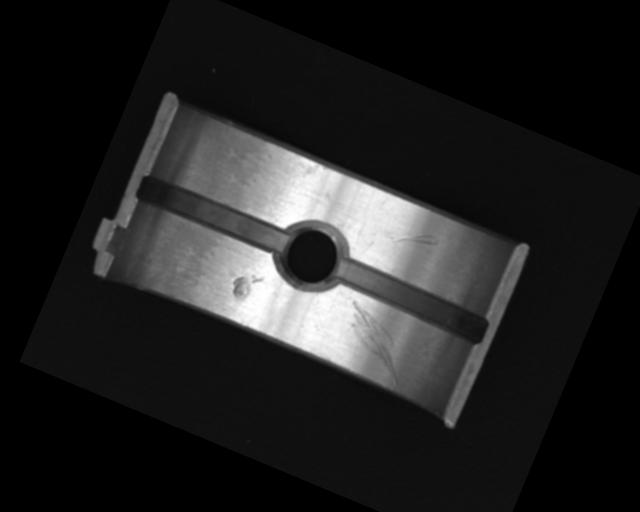bruise: (228, 266, 264, 304)
gap: (329, 254, 491, 345), (135, 171, 292, 258)
hole: (269, 212, 352, 297)
nick: (328, 299, 420, 386), (385, 218, 440, 260)
